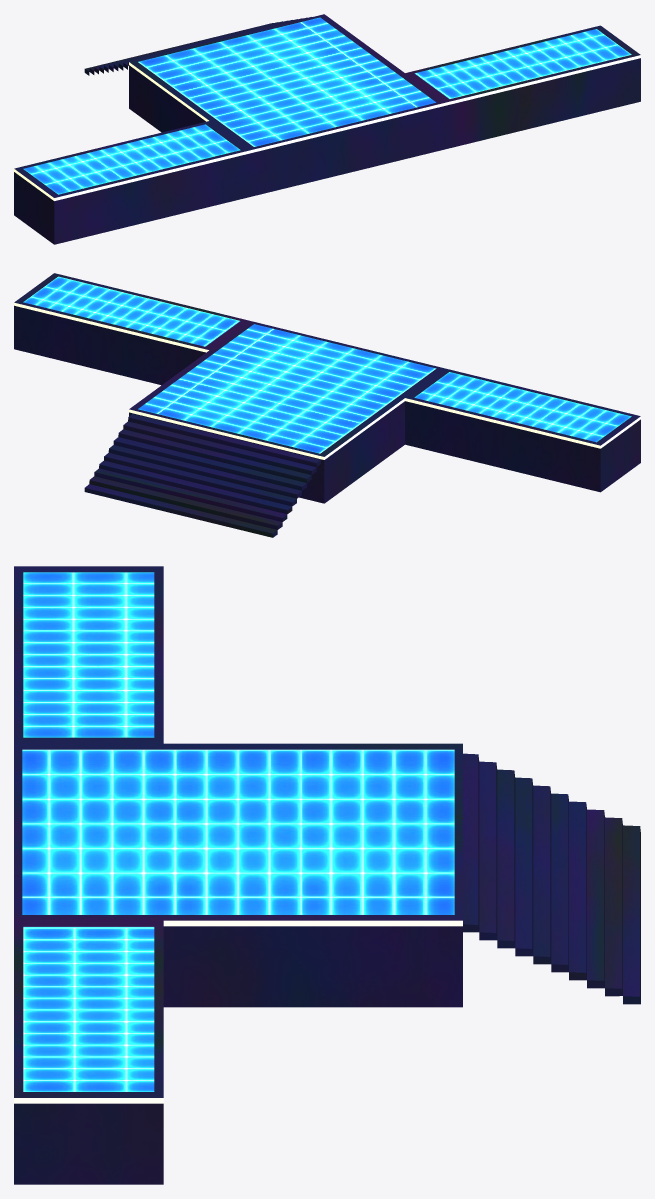
Rendered from ETC0110009.fbx.
The picture shows the model from 3 angles, top to bottom: view 1: azimuth 30°, elevation 25°; view 2: azimuth 150°, elevation 25°; view 3: azimuth 270°, elevation 25°; orthographic projection. The views are drawn at different scales.
Visible parts, largest first — view 1: smETC0110009; view 2: smETC0110009; view 3: smETC0110009.
Part boxes in pixels (x1,y1,x2,y2): smETC0110009: [14, 14, 640, 244]; smETC0110009: [14, 273, 640, 537]; smETC0110009: [14, 566, 640, 1184].
Bounding box in the file's own units: 2268 × 172 × 1131.
Materials: 1 (1 with a texture image).
